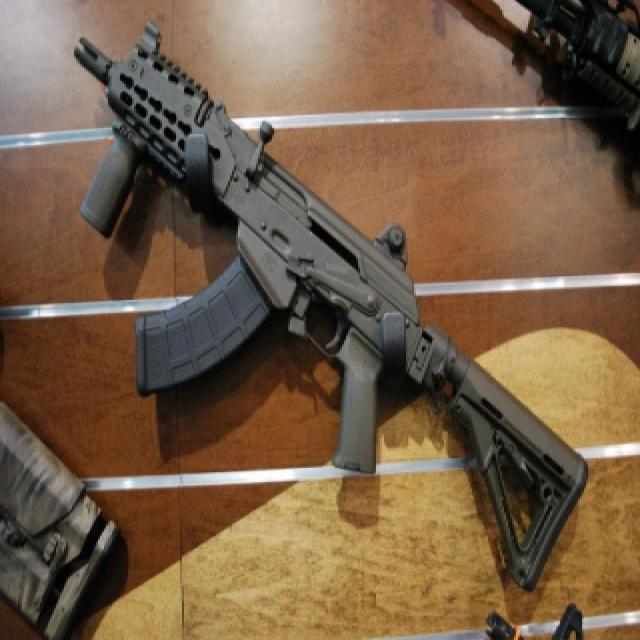rifle: (67, 13, 609, 599)
